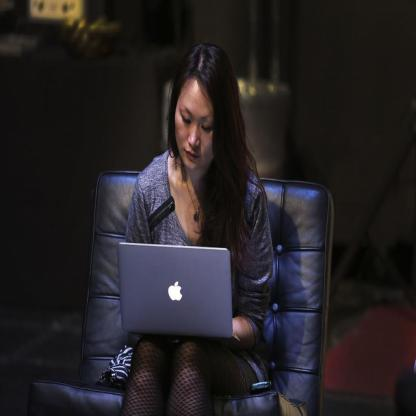board: (120, 240, 242, 350)
